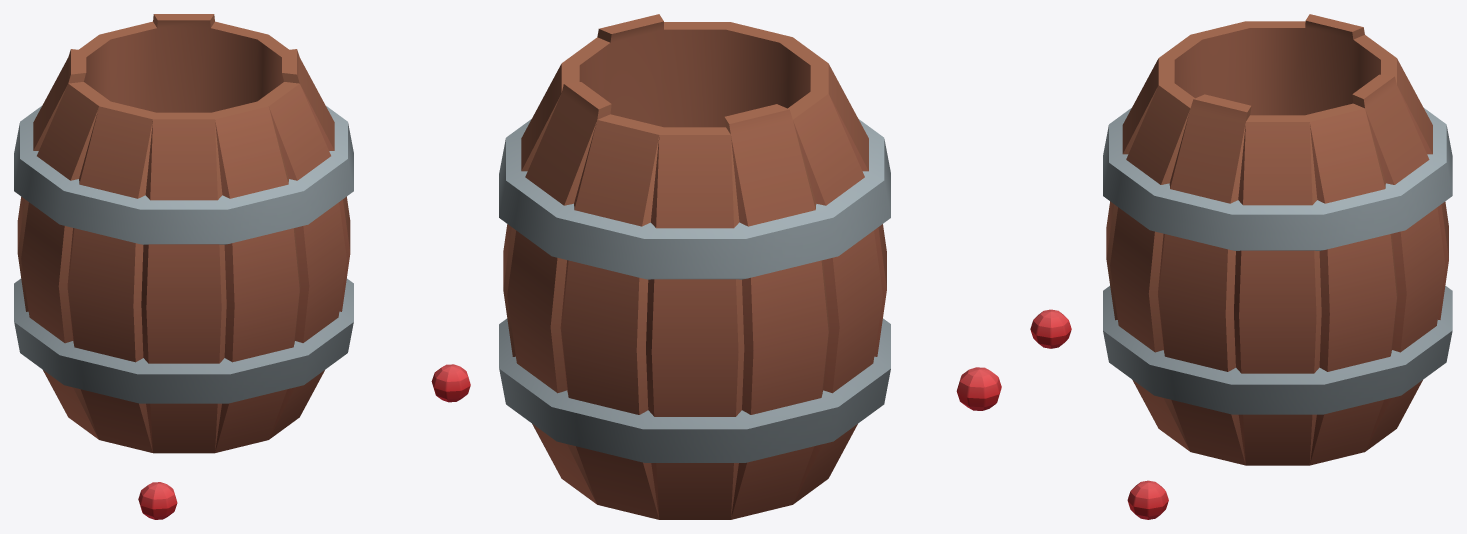
File: apple_barrel_3.glb
3 views of the same model, side by side, from view 1: azimuth 30°, elevation 25°; view 2: azimuth 150°, elevation 25°; view 3: azimuth 270°, elevation 25° (orthographic). The views are drawn at different scales.
Parts seen in each view (by area): view 1: apple_barrel_3; view 2: apple_barrel_3; view 3: apple_barrel_3.
Boxes of the visible parts, x1,y1,x2,y2 form: apple_barrel_3: (14,14,470,519); apple_barrel_3: (499,14,1001,519); apple_barrel_3: (1030,14,1452,519).
Bounding box in the file's own units: 1.38 × 1.2 × 1.3.
2 materials, 2 textured.
